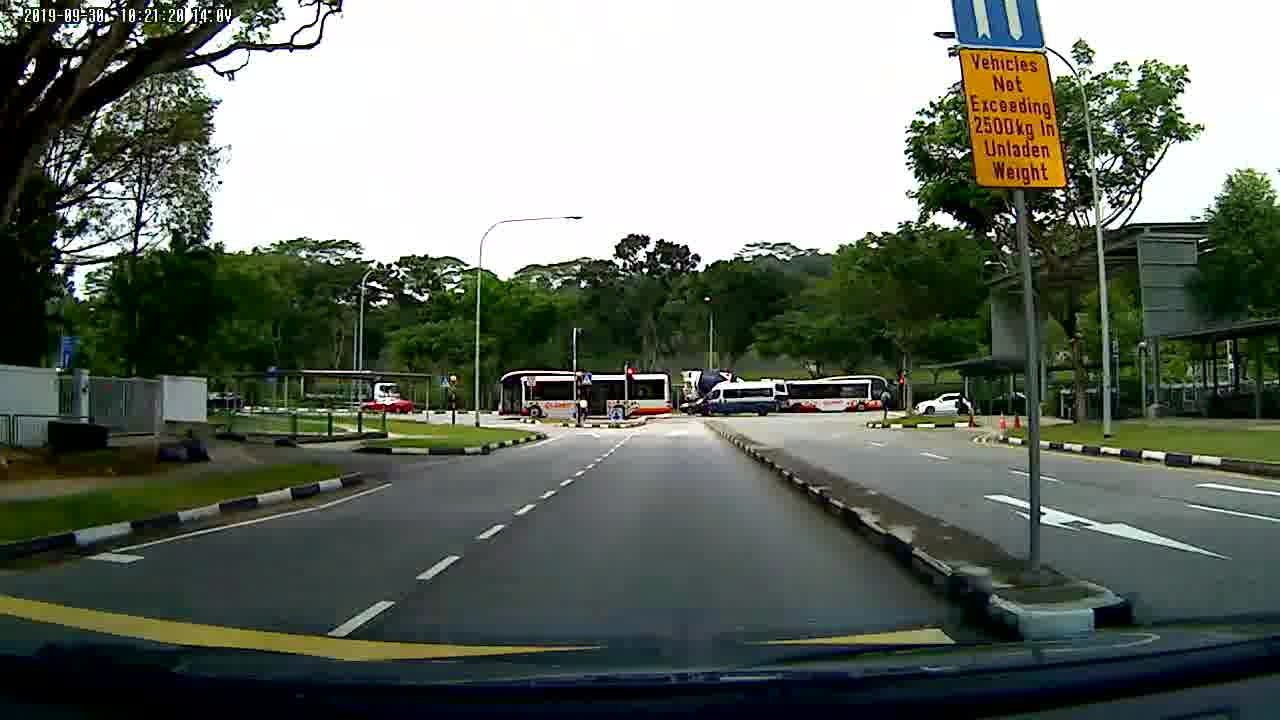bus: (495, 369, 674, 421), (787, 372, 891, 414)
car: (359, 394, 414, 418), (913, 394, 969, 414)
